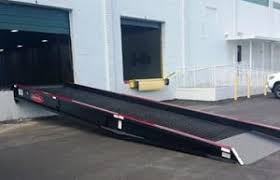Yard Ramp: (12, 81, 280, 169)
